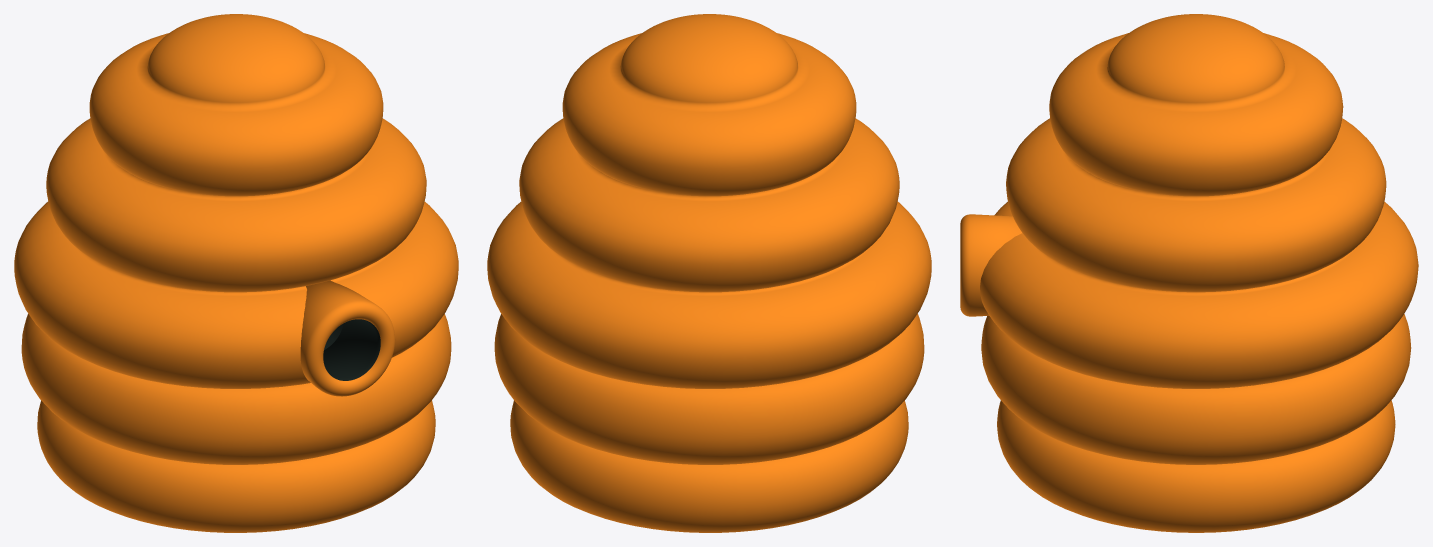
The model's file is Small_Hive_Orange.fbx.
The picture shows the model from 3 angles, left to right: view 1: azimuth 30°, elevation 25°; view 2: azimuth 150°, elevation 25°; view 3: azimuth 270°, elevation 25°; orthographic projection.
Visible parts, largest first — view 1: Small_Hive_Orange_Body, Small_Hive_Orange_Entrance_Collar; view 2: Small_Hive_Orange_Body; view 3: Small_Hive_Orange_Body, Small_Hive_Orange_Entrance_Collar.
Boxes of the visible parts, left/top/right/bottom form: Small_Hive_Orange_Body: left=14, top=14, right=458, bottom=532; Small_Hive_Orange_Entrance_Collar: left=300, top=280, right=395, bottom=396; Small_Hive_Orange_Body: left=487, top=14, right=931, bottom=532; Small_Hive_Orange_Body: left=980, top=14, right=1418, bottom=532; Small_Hive_Orange_Entrance_Collar: left=960, top=214, right=1021, bottom=316.
Size of the model in its own units: 209 by 223 by 215.
